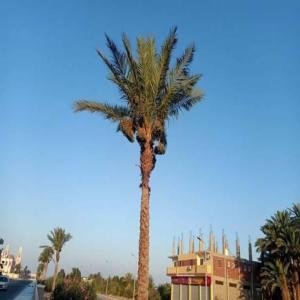palm tree: (71, 23, 205, 298), (255, 202, 300, 300), (47, 226, 72, 292), (38, 245, 54, 279)
